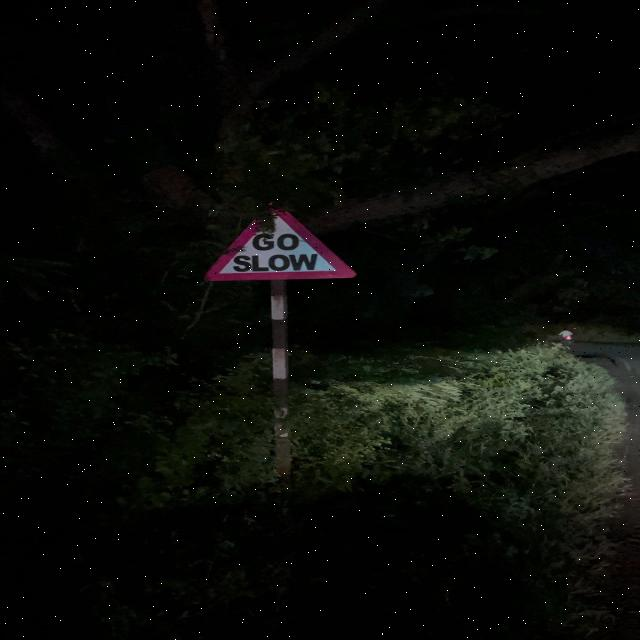go_slow: (202, 210, 368, 290)
